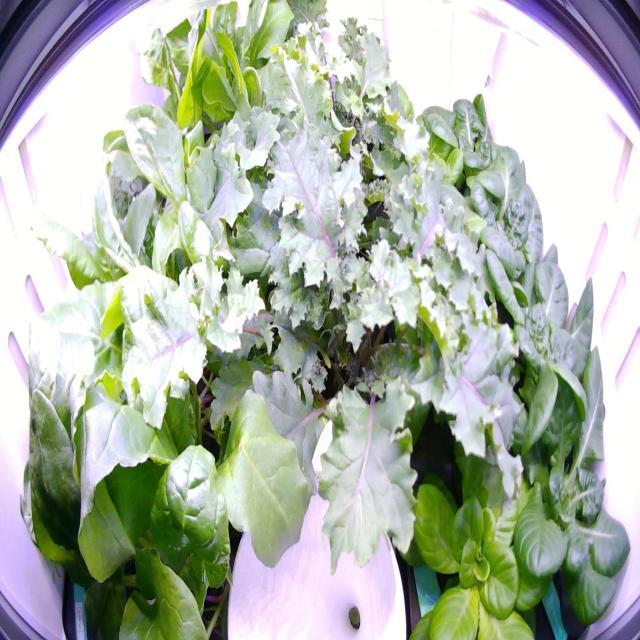young: (468, 364, 634, 639), (394, 418, 555, 639), (474, 240, 612, 464), (439, 124, 566, 287), (404, 74, 521, 205)
